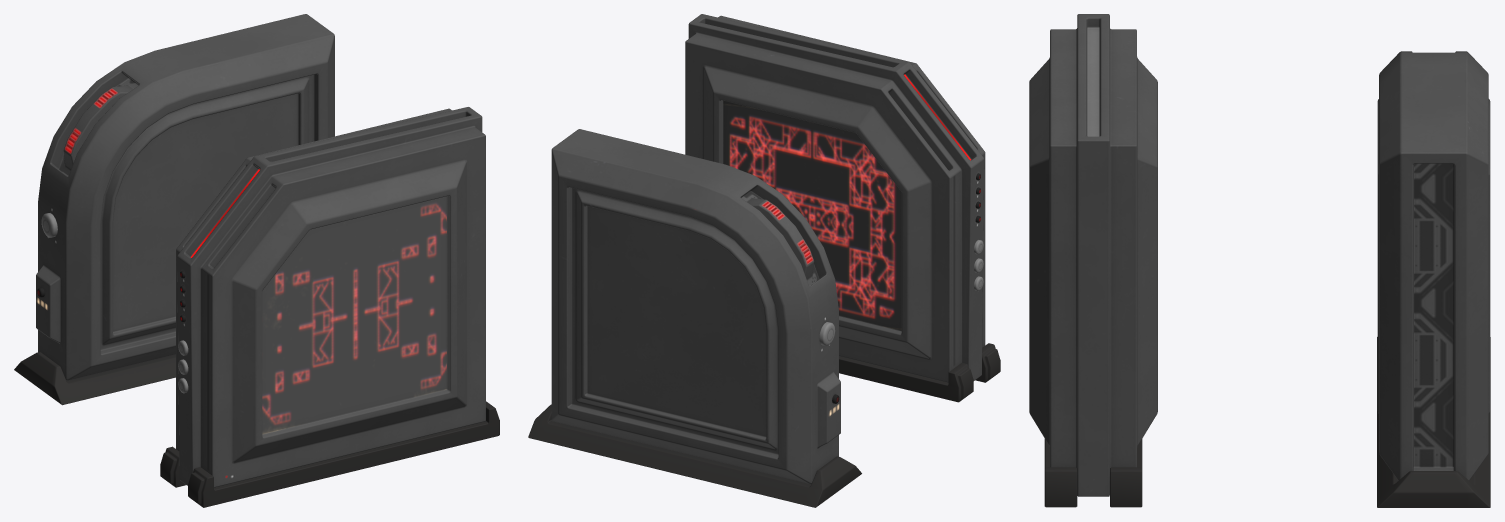
The model's file is sci-fi_servers.glb.
3 renders of one model, left to right at view 1: azimuth 30°, elevation 25°; view 2: azimuth 150°, elevation 25°; view 3: azimuth 270°, elevation 25°, orthographic. The views are drawn at different scales.
Visible parts, largest first — view 1: Server_1, Server_2; view 2: Server_2, Server_1; view 3: Server_1, Server_2.
Part boxes in pixels (x1,y1,x2,y2): Server_1: [160, 107, 499, 507]; Server_2: [14, 14, 334, 405]; Server_2: [528, 129, 861, 507]; Server_1: [685, 14, 1000, 402]; Server_1: [1029, 14, 1157, 507]; Server_2: [1377, 51, 1490, 507].
Bounding box in the file's own units: 0.7427 × 0.7389 × 0.8377.
1 material, 1 textured.
